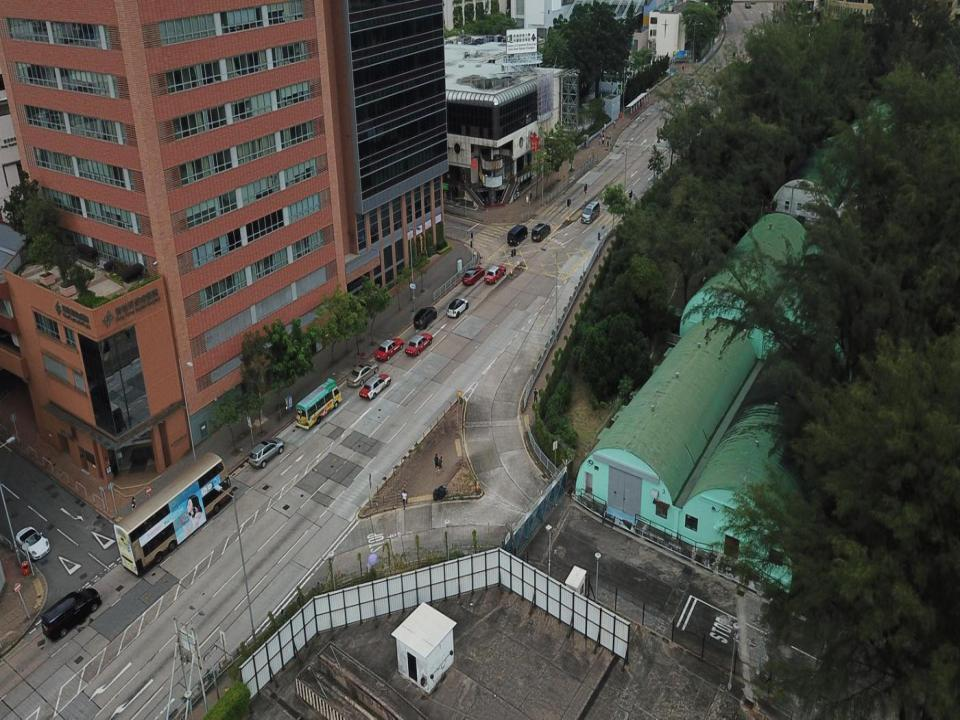bus: (112, 454, 234, 578), (294, 379, 342, 429)
car: (16, 526, 50, 559), (358, 371, 390, 401), (348, 360, 379, 387), (375, 337, 405, 362), (404, 334, 431, 356), (463, 267, 485, 287), (483, 263, 506, 282), (448, 299, 468, 318), (707, 85, 719, 100), (683, 76, 695, 86)
van: (42, 587, 103, 643), (250, 437, 286, 468), (414, 307, 438, 329), (507, 224, 528, 246), (581, 202, 600, 223), (532, 223, 550, 242)
